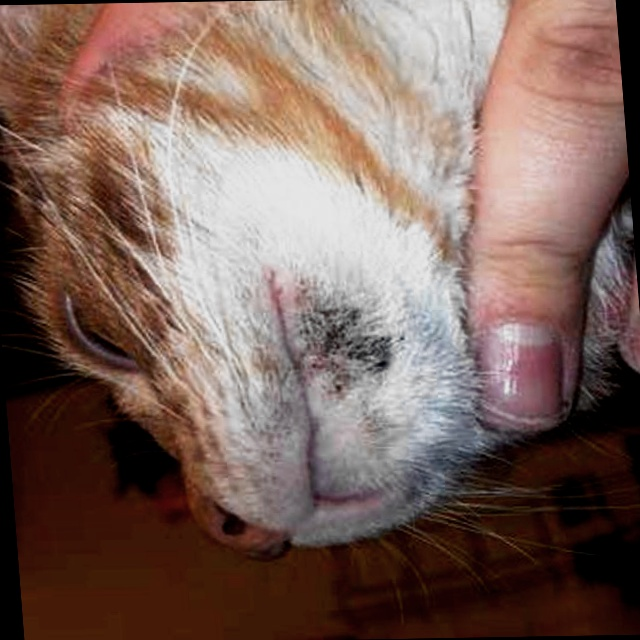acne: (296, 299, 401, 395)
